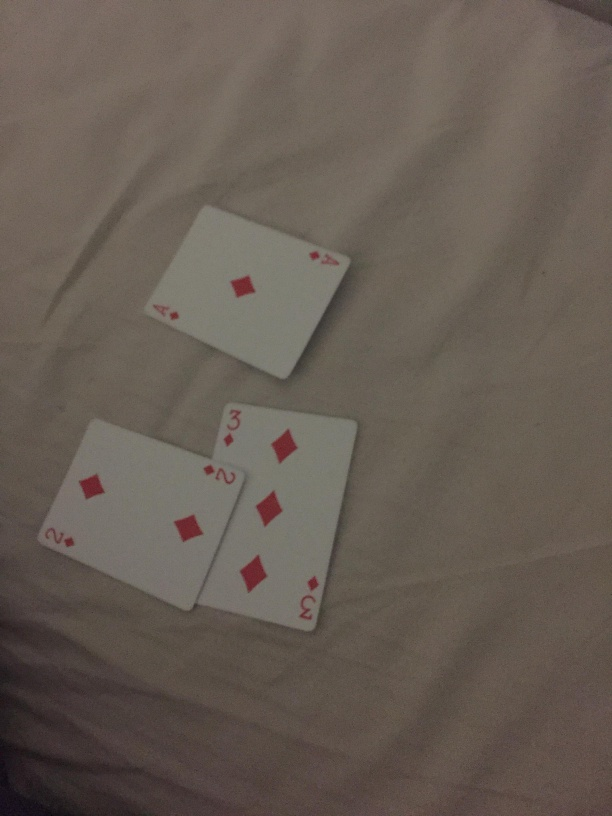2: (33, 414, 247, 623)
3: (198, 404, 363, 635)
ace: (134, 197, 355, 386)
